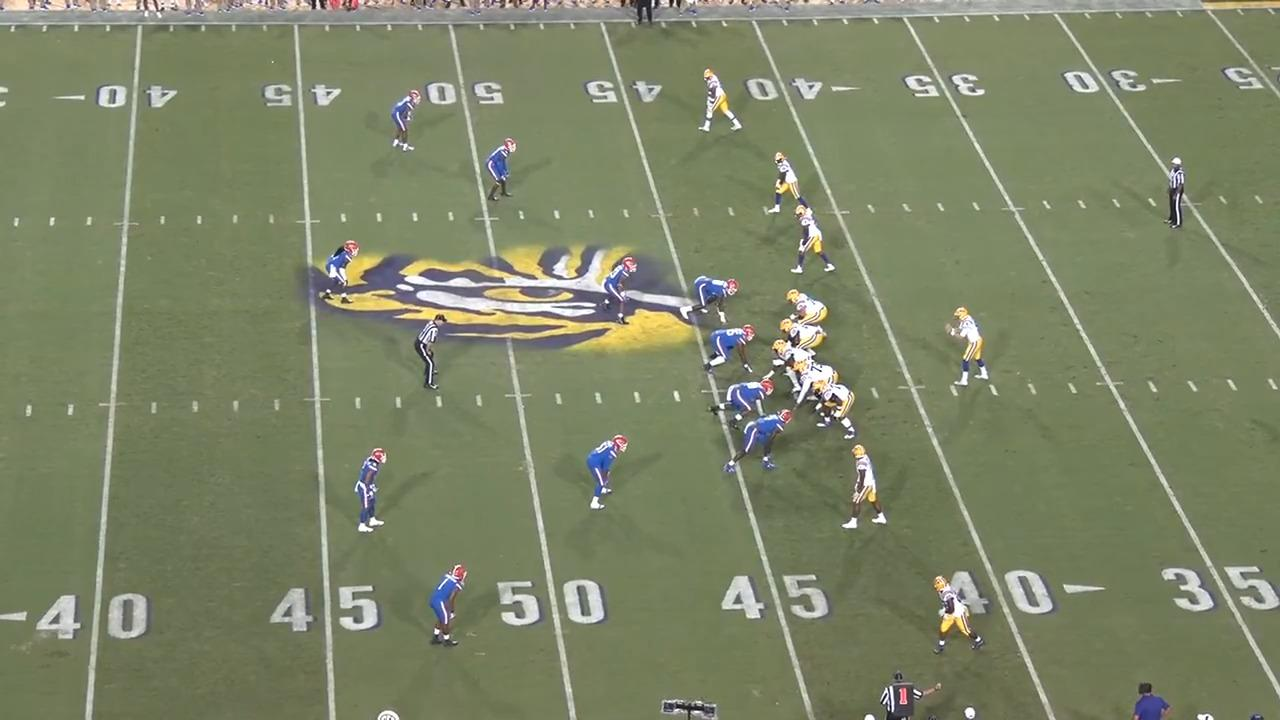player: (927, 570, 987, 658), (841, 444, 893, 537), (724, 409, 794, 475), (583, 433, 632, 514), (424, 562, 468, 652), (789, 203, 842, 277), (948, 304, 992, 391), (350, 446, 389, 536), (696, 64, 743, 135), (764, 149, 810, 218), (699, 324, 758, 376), (707, 380, 771, 427), (682, 275, 741, 324), (815, 379, 861, 441), (602, 254, 642, 325), (792, 360, 839, 416), (324, 240, 362, 309), (387, 89, 424, 156), (767, 340, 815, 390), (484, 136, 519, 202), (783, 288, 829, 337), (777, 316, 824, 356)
ref: (412, 312, 451, 392), (1165, 156, 1194, 235), (629, 0, 660, 29)
